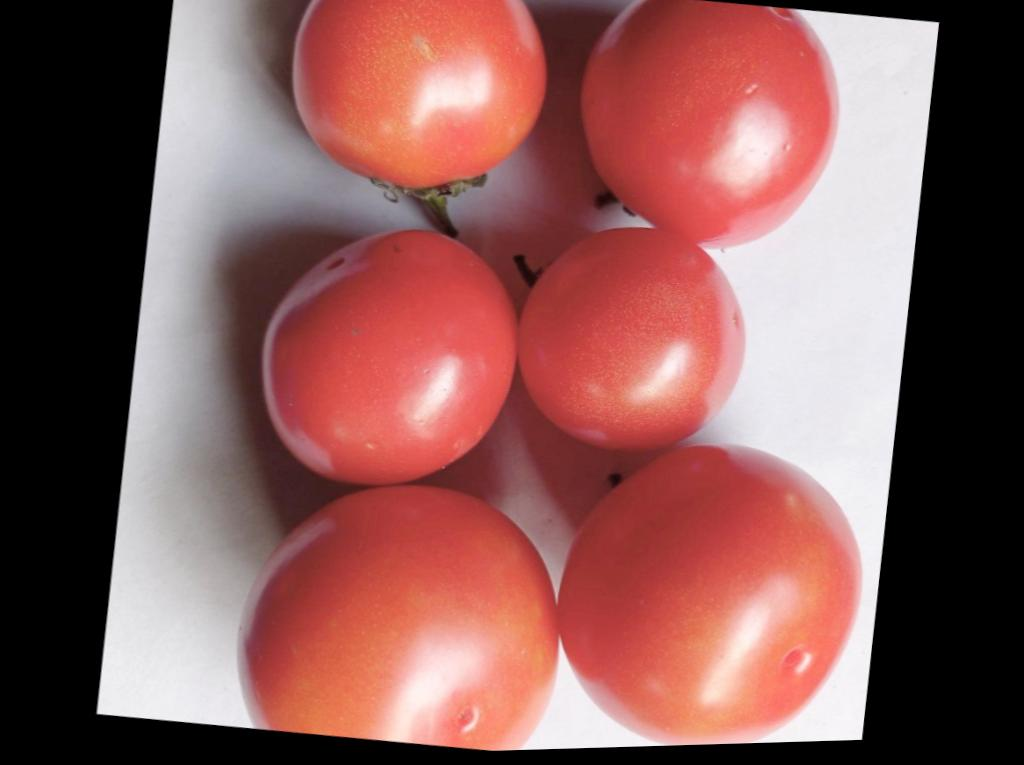tomato: (560, 445, 860, 745), (239, 485, 556, 751), (263, 230, 512, 483), (582, 0, 836, 244), (520, 229, 744, 447), (295, 0, 545, 187)
